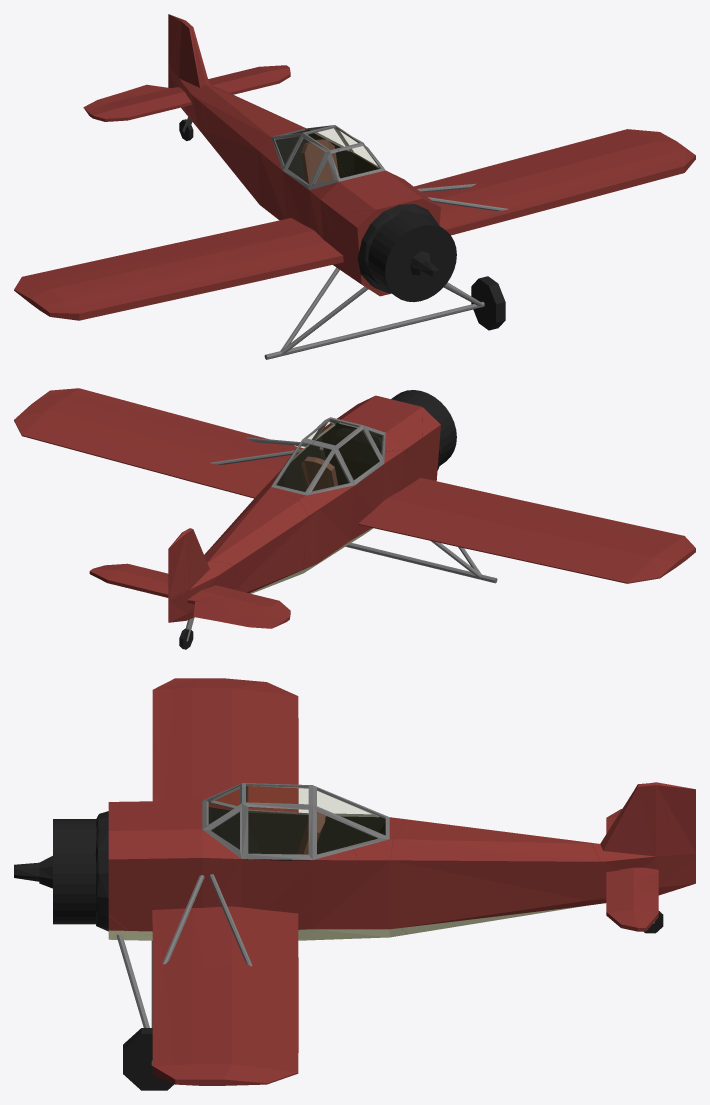
File: Aircraft_3.glb
3 views of the same model, one above another, from view 1: azimuth 30°, elevation 25°; view 2: azimuth 150°, elevation 25°; view 3: azimuth 270°, elevation 25° (orthographic). The views are drawn at different scales.
Parts seen in each view (by area): view 1: fuselage, wing right, wing left, tail.002, landing gear struts, aileron left, aileron right, broken cockpit section, Object.003, cockpit, rudder, elevator (+1 smaller); view 2: fuselage, wing right, wing left, tail.002, aileron left, aileron right, broken cockpit section, rudder, landing gear struts, elevator, cockpit, Cylinder; view 3: fuselage, tail.002, wing left, wing right, rudder, aileron right, cockpit, aileron left, broken cockpit section, Object.003, Cylinder, landing gear struts.
Boxes of the visible parts, <box> form: fuselage: <box>250,127,456,301</box>; wing right: <box>14,218,343,320</box>; wing left: <box>414,132,695,235</box>; tail.002: <box>89,20,304,192</box>; landing gear struts: <box>264,267,484,359</box>; aileron left: <box>476,129,659,175</box>; aileron right: <box>14,243,185,290</box>; broken cockpit section: <box>271,127,338,190</box>; Object.003: <box>471,276,505,330</box>; cockpit: <box>299,125,385,181</box>; rudder: <box>168,14,183,108</box>; elevator: <box>83,84,170,115</box>; fuselage: <box>259,390,456,577</box>; wing right: <box>358,478,695,577</box>; wing left: <box>15,388,303,498</box>; tail.002: <box>89,488,308,621</box>; aileron left: <box>14,419,185,476</box>; aileron right: <box>475,537,660,583</box>; broken cockpit section: <box>279,423,385,495</box>; rudder: <box>168,532,188,622</box>; landing gear struts: <box>345,541,497,583</box>; elevator: <box>193,601,286,628</box>; cockpit: <box>271,417,358,488</box>; Cylinder: <box>210,437,323,464</box>; fuselage: <box>14,800,407,940</box>; tail.002: <box>390,782,658,934</box>; wing left: <box>152,906,298,1085</box>; wing right: <box>152,678,298,812</box>; rudder: <box>656,782,695,895</box>; aileron right: <box>265,682,298,795</box>; cockpit: <box>202,788,389,859</box>; aileron left: <box>265,979,298,1084</box>; broken cockpit section: <box>202,783,389,833</box>; Object.003: <box>123,1028,174,1090</box>; Cylinder: <box>162,874,252,966</box>; landing gear struts: <box>116,934,152,1065</box>.
Bounding box in the file's own units: 10.68 × 2.97 × 7.67.
